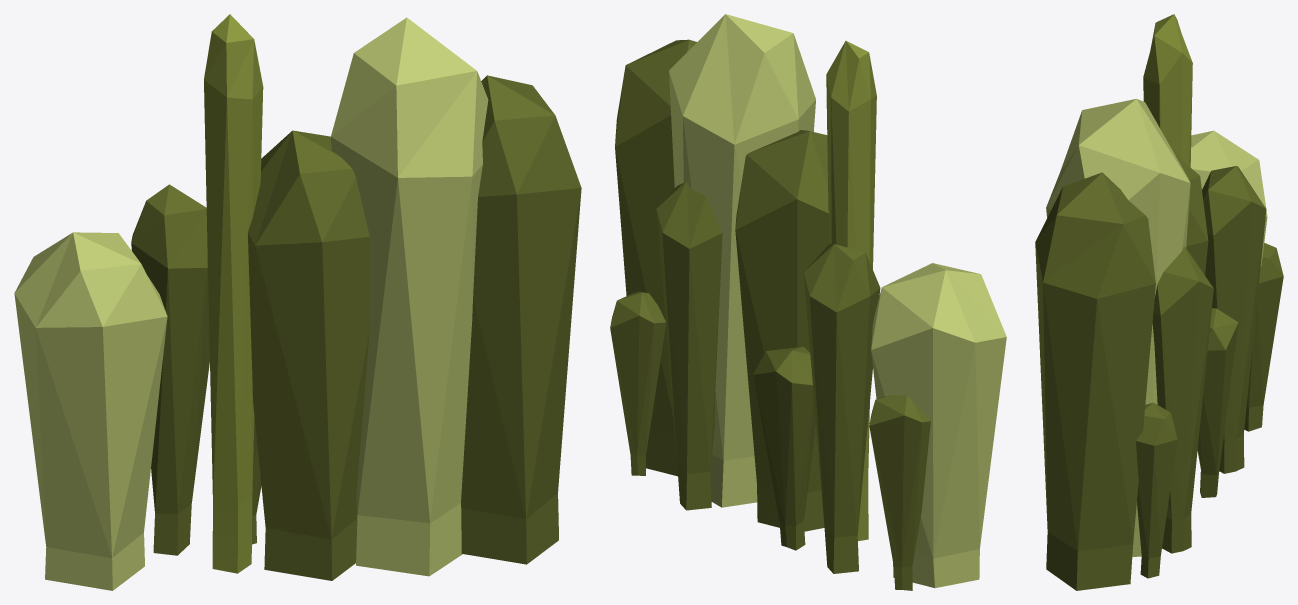
Rendered from ea_swamp_grass_01c_pre__3__lev1.glb.
3 renders of one model, left to right at view 1: azimuth 30°, elevation 25°; view 2: azimuth 150°, elevation 25°; view 3: azimuth 270°, elevation 25°, orthographic. The views are drawn at different scales.
Parts seen in each view (by area): view 1: ea_swamp_grass_01c_pre__3__lev1; view 2: ea_swamp_grass_01c_pre__3__lev1; view 3: ea_swamp_grass_01c_pre__3__lev1.
Boxes of the visible parts, x1,y1,x2,y2 form: ea_swamp_grass_01c_pre__3__lev1: (14,14,581,590); ea_swamp_grass_01c_pre__3__lev1: (610,14,1006,590); ea_swamp_grass_01c_pre__3__lev1: (1035,14,1283,590).
Size of the model in its own units: 0.8642 by 0.9423 by 0.4552.
Materials: 1 (1 with a texture image).
